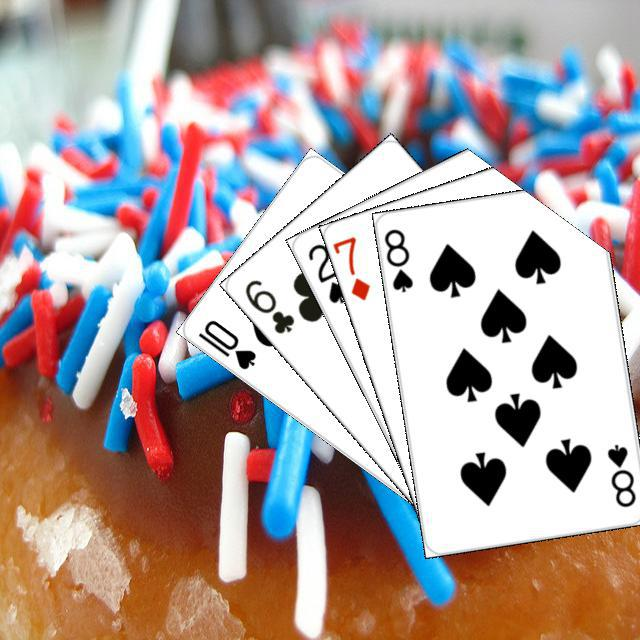10s: (193, 314, 258, 372)
2s: (302, 238, 351, 305)
6c: (239, 274, 297, 336)
7d: (329, 231, 372, 303)
8s: (602, 439, 638, 509), (380, 224, 415, 294)
